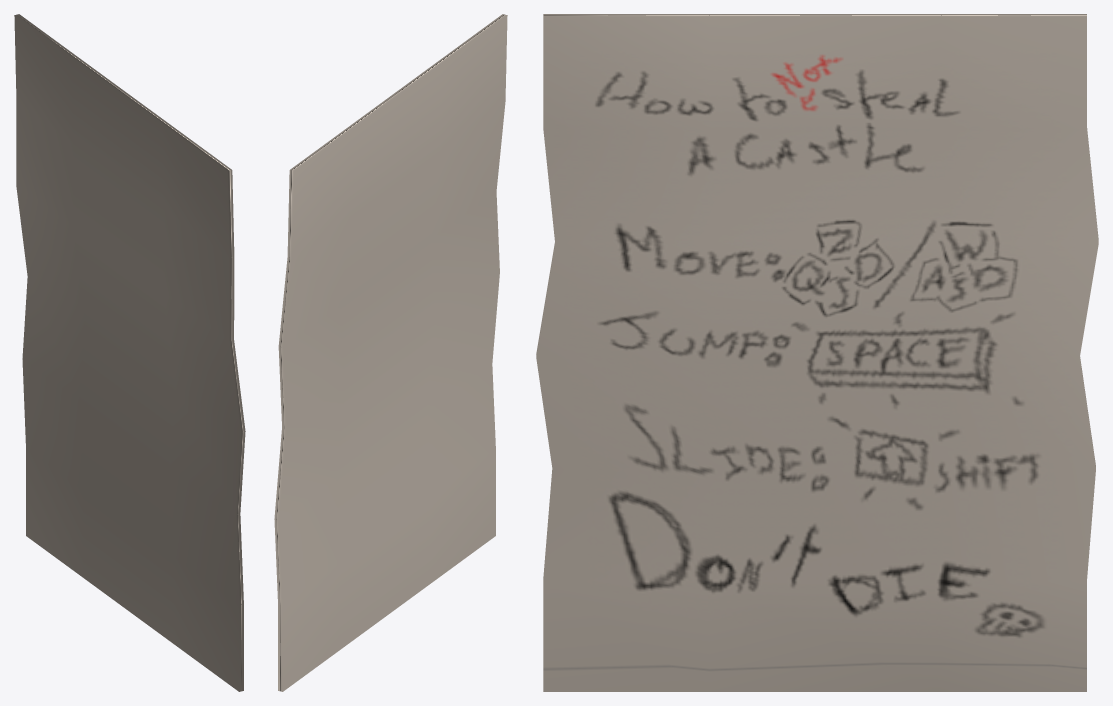
File: FichePanneau 1.fbx
3 views of the same model, side by side, from view 1: azimuth 30°, elevation 25°; view 2: azimuth 150°, elevation 25°; view 3: azimuth 270°, elevation 25° (orthographic). The views are drawn at different scales.
Visible parts, largest first — view 1: Cube.028; view 2: Cube.028; view 3: Cube.028.
Boxes of the visible parts, x1=… form: Cube.028: x1=14, y1=14, x2=245, y2=691; Cube.028: x1=274, y1=14, x2=507, y2=691; Cube.028: x1=536, y1=14, x2=1098, y2=691.
Bounding box in the file's own units: 9.3 × 212 × 162.
